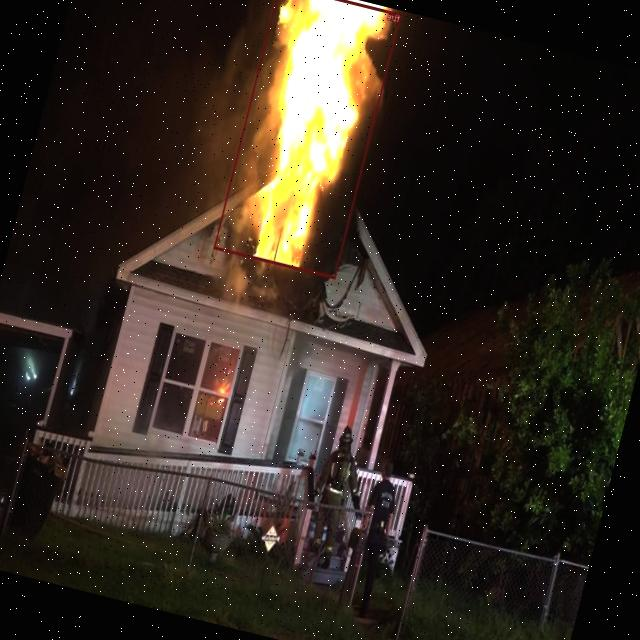fire: (213, 0, 400, 277)
